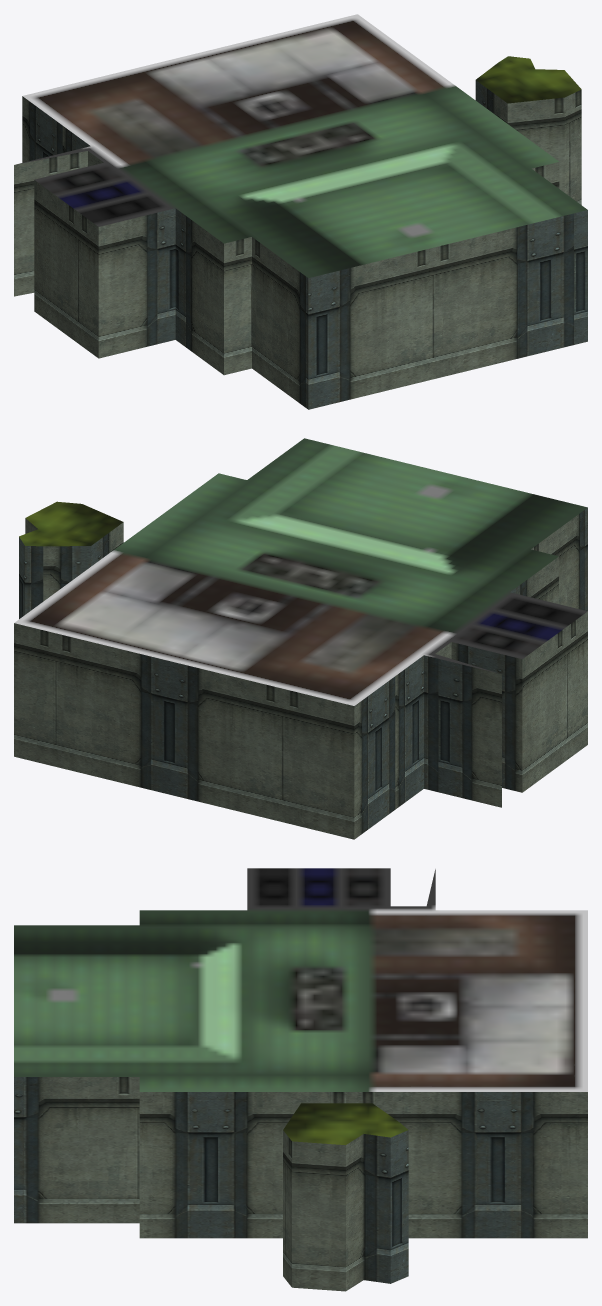
File: BuildingSystem-03-Advance-03-Heavy-3-49-01.glb
3 views of the same model, one above another, from view 1: azimuth 30°, elevation 25°; view 2: azimuth 150°, elevation 25°; view 3: azimuth 270°, elevation 25° (orthographic). The views are drawn at different scales.
Visible parts, largest first — view 1: buildings/saxarba/SMV_Buildings/BuildingSystem-03-Advance-03; view 2: buildings/saxarba/SMV_Buildings/BuildingSystem-03-Advance-03; view 3: buildings/saxarba/SMV_Buildings/BuildingSystem-03-Advance-03.
Part boxes in pixels (left/top/right/bottom): buildings/saxarba/SMV_Buildings/BuildingSystem-03-Advance-03: left=14, top=14, right=587, bottom=409; buildings/saxarba/SMV_Buildings/BuildingSystem-03-Advance-03: left=14, top=438, right=587, bottom=839; buildings/saxarba/SMV_Buildings/BuildingSystem-03-Advance-03: left=14, top=868, right=587, bottom=1291.
Size of the model in its own units: 73 by 18 by 64.
